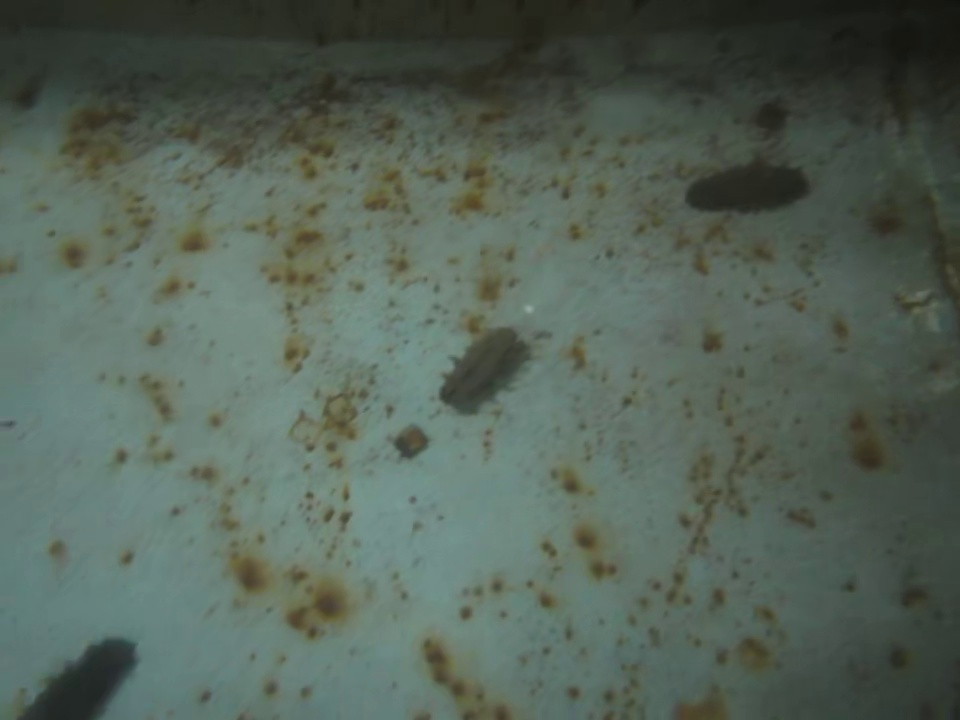seacucumber: (18, 635, 139, 720), (437, 325, 534, 417), (681, 158, 822, 216)
